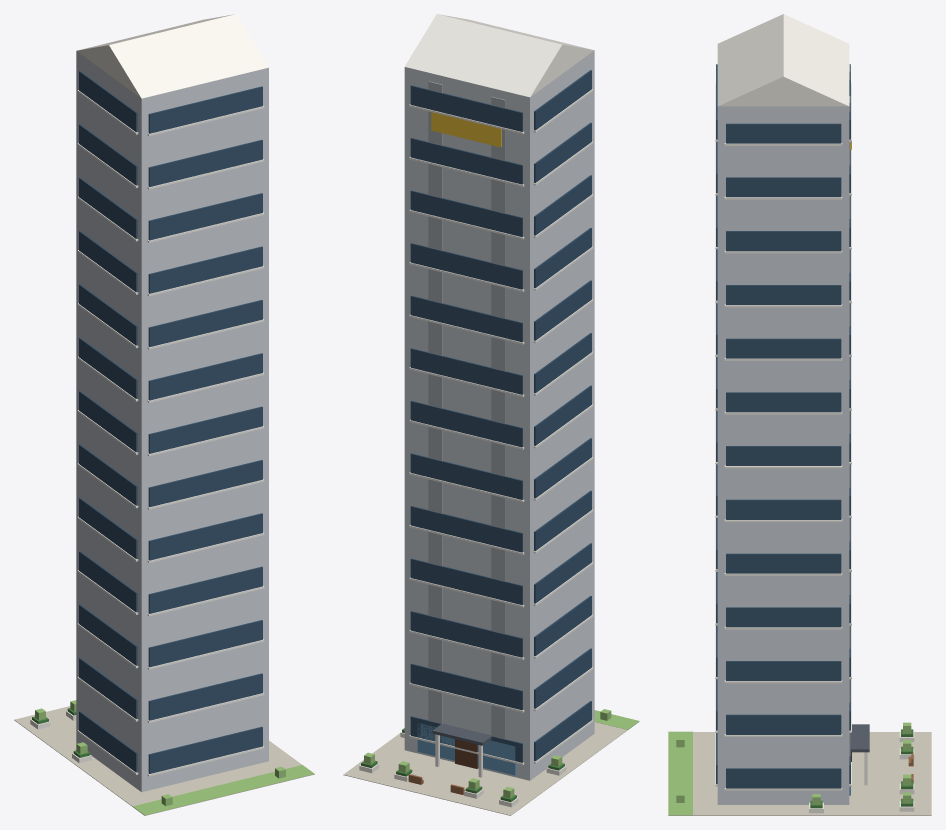
3 renders of one model, left to right at view 1: azimuth 30°, elevation 25°; view 2: azimuth 150°, elevation 25°; view 3: azimuth 270°, elevation 25°, orthographic. The views are drawn at different scales.
Parts seen in each view (by area): view 1: tower, window_band (×26), crown_cap, plaza, lawn; view 2: tower, window_band (×26), panel (×2), crown_cap, plaza, storefront, sign, canopy, door; view 3: tower, window_band (×13), crown_cap, plaza, lawn, panel, canopy.
Boxes of the visible parts, <box> form: tower: <box>76,51,268,792</box>; window_band (×26): <box>79,71,262,773</box>; crown_cap: <box>76,14,268,98</box>; plaza: <box>14,706,314,815</box>; lawn: <box>133,765,314,815</box>; tower: <box>404,50,594,780</box>; window_band (×26): <box>410,70,591,762</box>; panel (×2): <box>428,81,505,739</box>; crown_cap: <box>404,14,594,97</box>; plaza: <box>343,721,639,815</box>; storefront: <box>417,723,516,775</box>; sign: <box>431,112,501,147</box>; canopy: <box>432,723,491,745</box>; door: <box>455,739,478,768</box>; tower: <box>717,106,849,804</box>; window_band (×13): <box>726,123,841,788</box>; crown_cap: <box>717,14,849,106</box>; plaza: <box>668,732,931,815</box>; lawn: <box>668,731,692,815</box>; panel: <box>849,96,850,756</box>; canopy: <box>850,724,869,752</box>.
Bounding box in the file's own units: 24 × 97.67 × 32.
